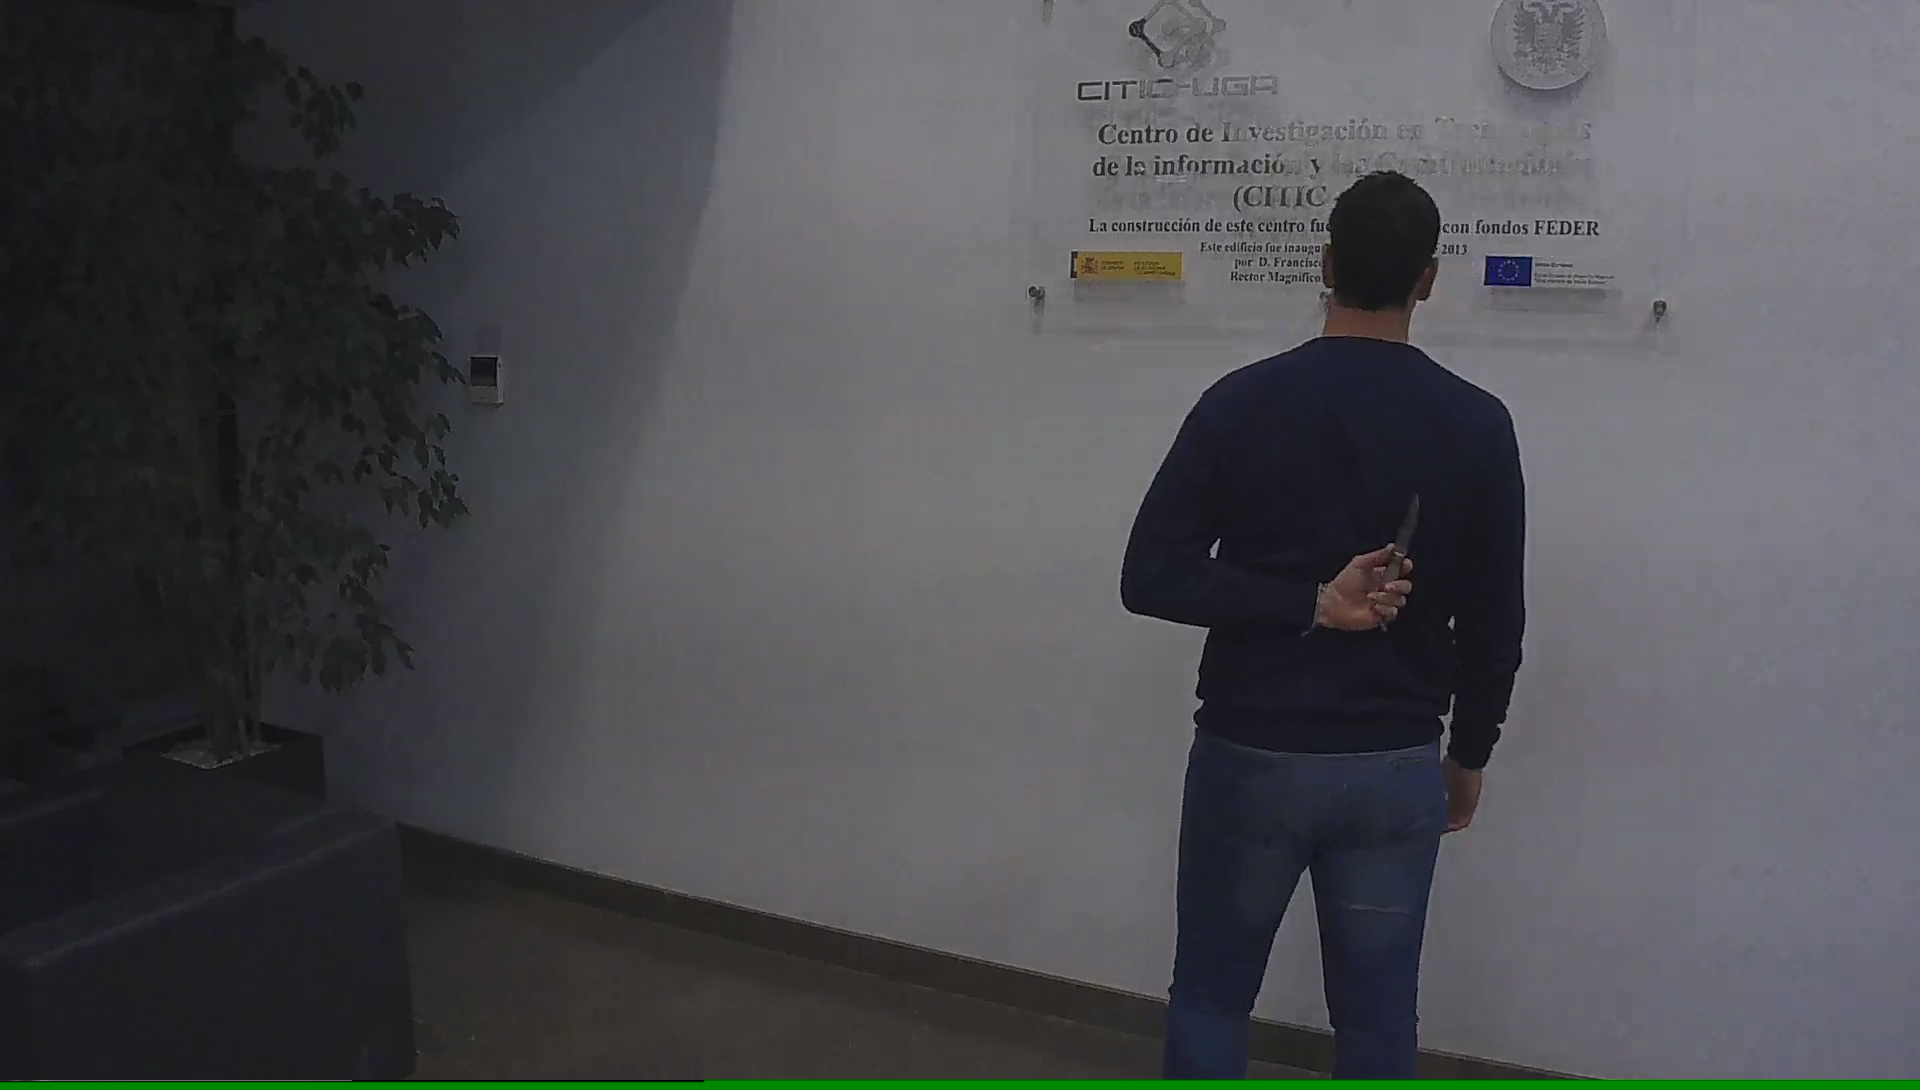knife: (1352, 482, 1428, 639)
